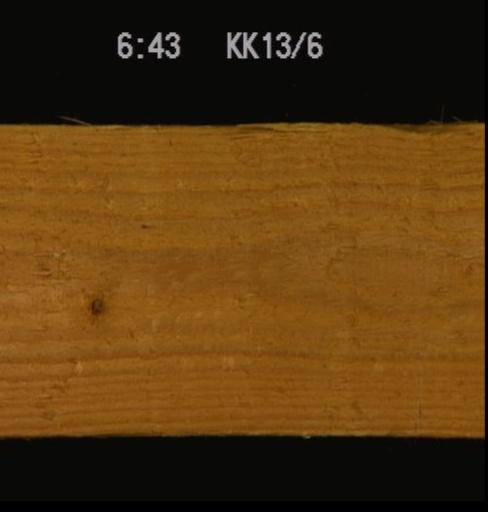dry_knot: (86, 291, 106, 318)
split: (239, 122, 481, 155)
